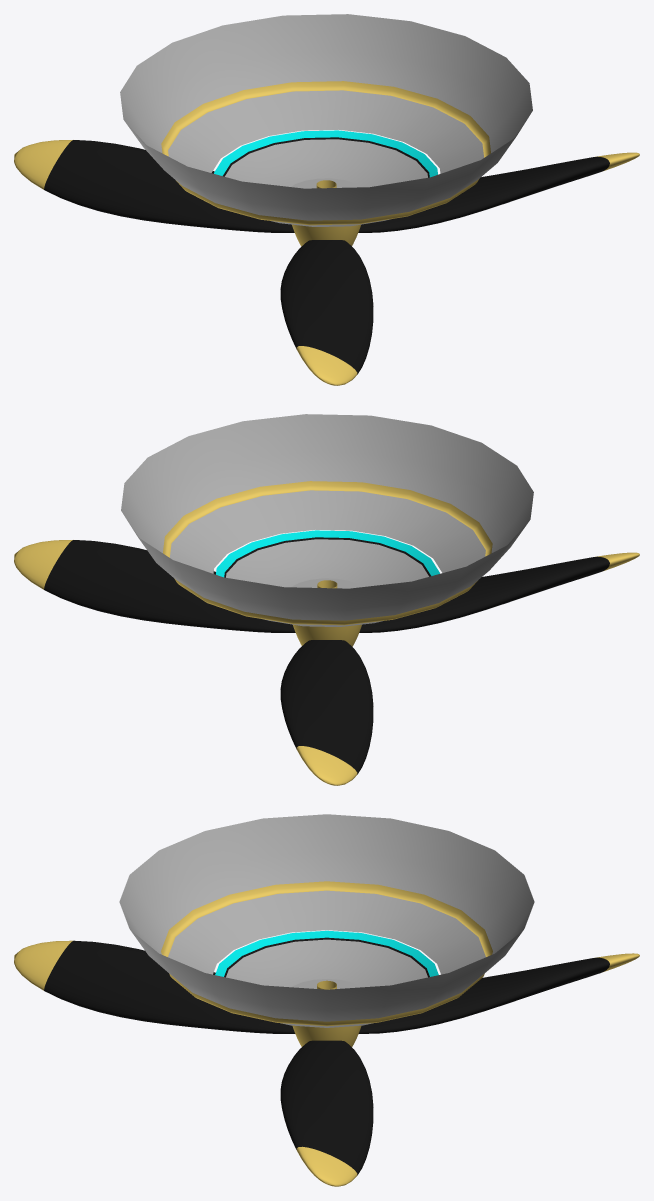
File: propeller.fbx
3 views of the same model, one above another, from view 1: azimuth 30°, elevation 25°; view 2: azimuth 150°, elevation 25°; view 3: azimuth 270°, elevation 25° (orthographic).
Parts seen in each view (by area): view 1: pSphere1, pCylinder2; view 2: pSphere1, pCylinder2; view 3: pSphere1, pCylinder2.
Boxes of the visible parts, x1=… form: pSphere1: x1=120, y1=14, x2=532, y2=226; pCylinder2: x1=14, y1=140, x2=639, y2=385; pSphere1: x1=121, y1=414, x2=533, y2=626; pCylinder2: x1=14, y1=540, x2=639, y2=785; pSphere1: x1=119, y1=814, x2=534, y2=1027; pCylinder2: x1=14, y1=940, x2=639, y2=1186.
Size of the model in its own units: 5.69 by 1.8 by 6.26.
